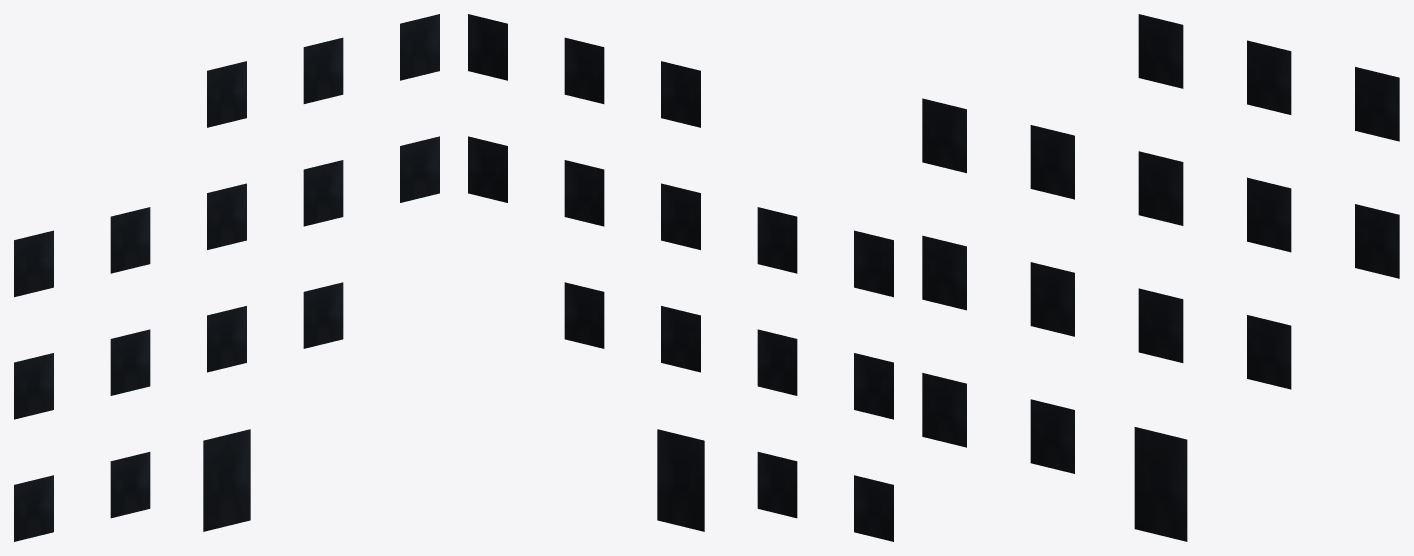
Rendered from Street_BlockR4_Glass.obj.
3 views of the same model, side by side, from view 1: azimuth 30°, elevation 25°; view 2: azimuth 150°, elevation 25°; view 3: azimuth 330°, elevation 25° (orthographic). The views are drawn at different scales.
Size of the model in its own units: 11.47 by 11.85 by 0.
Materials: 1 (1 with a texture image).
